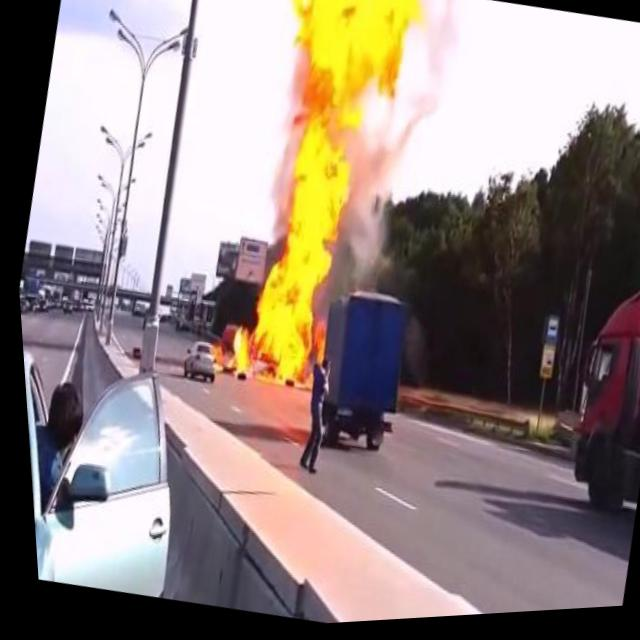fire: (201, 0, 439, 416)
